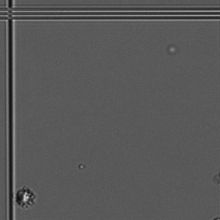Living Cell: (14, 186, 40, 212)
